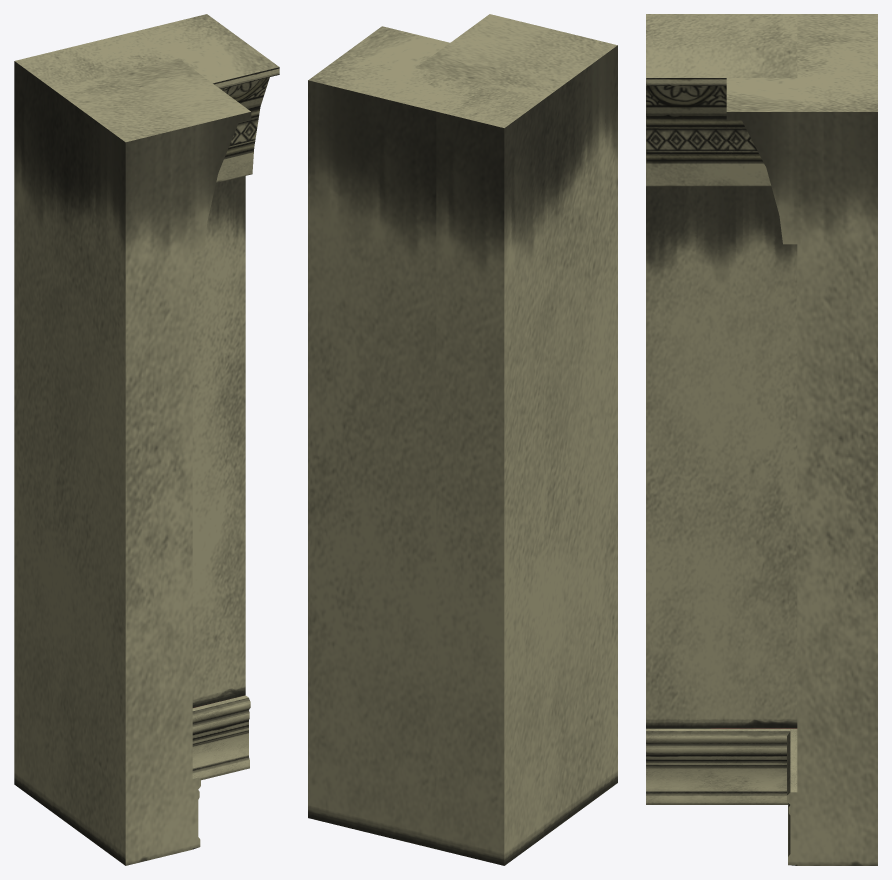
File: Wall3.FBX
3 views of the same model, side by side, from view 1: azimuth 30°, elevation 25°; view 2: azimuth 150°, elevation 25°; view 3: azimuth 270°, elevation 25° (orthographic). The views are drawn at different scales.
Visible parts, largest first — view 1: Object021; view 2: Object021; view 3: Object021.
Boxes of the visible parts, bbox=[...] form: Object021: bbox=[14, 14, 279, 865]; Object021: bbox=[308, 14, 617, 865]; Object021: bbox=[646, 14, 877, 865].
Size of the model in its own units: 19.16 by 68.8 by 19.16.
